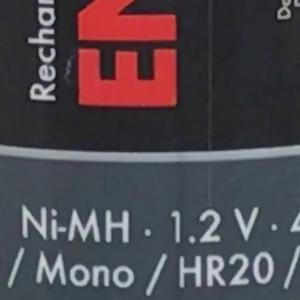HR20: (170, 242, 275, 297)
NIMH: (13, 201, 136, 249)
